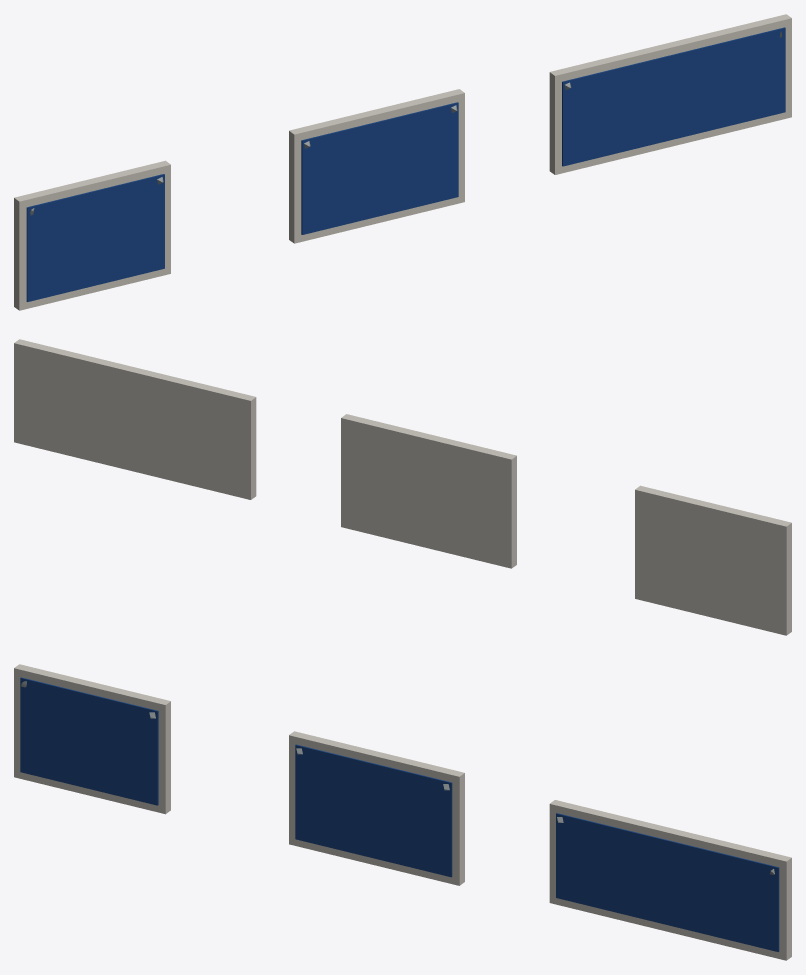
File: bien_so_nha.glb
3 views of the same model, one above another, from view 1: azimuth 30°, elevation 25°; view 2: azimuth 150°, elevation 25°; view 3: azimuth 330°, elevation 25° (orthographic).
Visible parts, largest first — view 1: bien_so_nha; view 2: bien_so_nha; view 3: bien_so_nha.
Part boxes in pixels (x1=…): bien_so_nha: x1=14, y1=14, x2=791, y2=310; bien_so_nha: x1=14, y1=339, x2=791, y2=635; bien_so_nha: x1=14, y1=664, x2=791, y2=960.
Size of the model in its own units: 1.63 by 0.22 by 0.0325.
